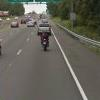Motorcycle: (33, 18, 54, 53)
